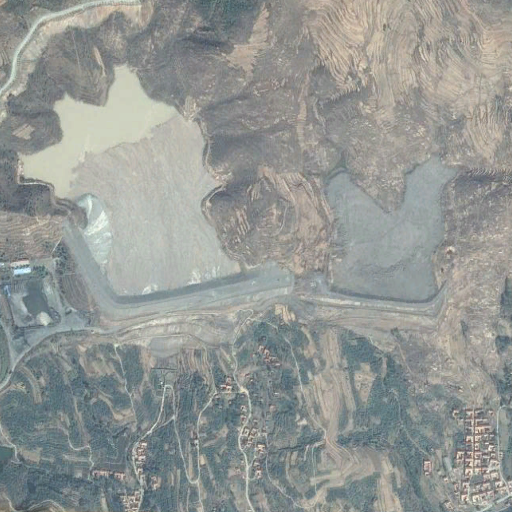tp: (17, 65, 289, 322), (315, 153, 455, 325)
